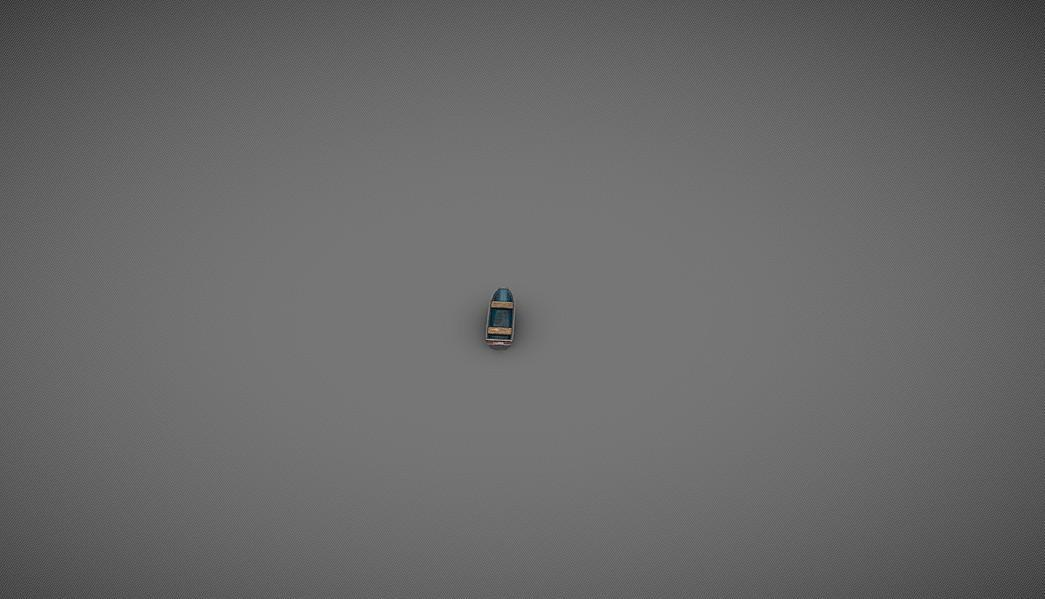Boat: (483, 286, 516, 350)
